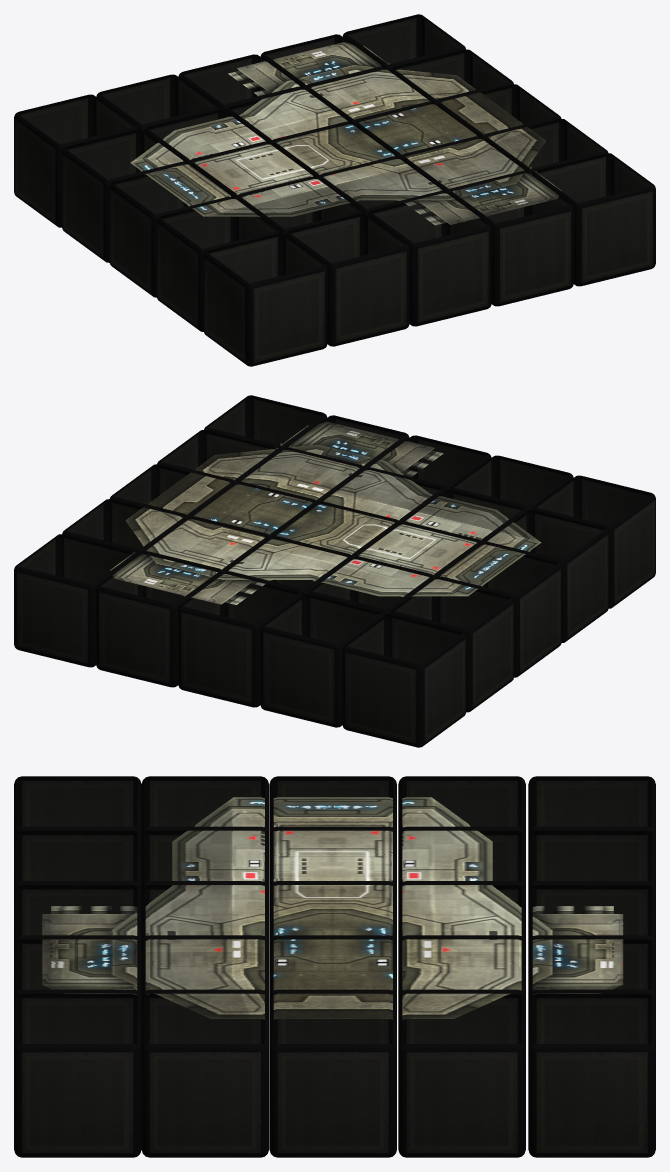
File: space_cruiser_4_ut.FBX
3 renders of one model, top to bottom at view 1: azimuth 30°, elevation 25°; view 2: azimuth 150°, elevation 25°; view 3: azimuth 270°, elevation 25°, orthographic. The views are drawn at different scales.
Visible parts, largest first — view 1: polySurface48, polySurface51, polySurface43, polySurface50, polySurface49, polySurface52, polySurface28, polySurface33, polySurface38, polySurface44, polySurface47, polySurface45 (+13 smaller); view 2: polySurface28, polySurface29, polySurface31, polySurface30, polySurface32, polySurface48, polySurface33, polySurface38, polySurface43, polySurface52, polySurface49, polySurface50 (+13 smaller); view 3: polySurface32, polySurface52, polySurface37, polySurface42, polySurface47, polySurface38, polySurface41, polySurface30, polySurface35, polySurface40, polySurface43, polySurface46 (+13 smaller).
Part boxes in pixels (x1=…): polySurface48: x1=203, y1=233, x2=327, y2=366; polySurface51: x1=450, y1=173, x2=573, y2=306; polySurface43: x1=156, y1=199, x2=279, y2=331; polySurface50: x1=368, y1=193, x2=491, y2=326; polySurface49: x1=286, y1=213, x2=409, y2=346; polySurface52: x1=532, y1=153, x2=655, y2=286; polySurface28: x1=14, y1=94, x2=137, y2=227; polySurface33: x1=62, y1=129, x2=185, y2=262; polySurface38: x1=109, y1=164, x2=232, y2=297; polySurface44: x1=239, y1=179, x2=361, y2=263; polySurface47: x1=485, y1=118, x2=608, y2=203; polySurface45: x1=321, y1=159, x2=444, y2=243; polySurface28: x1=342, y1=614, x2=466, y2=747; polySurface29: x1=260, y1=594, x2=383, y2=727; polySurface31: x1=96, y1=554, x2=219, y2=687; polySurface30: x1=178, y1=574, x2=301, y2=707; polySurface32: x1=14, y1=534, x2=137, y2=667; polySurface48: x1=532, y1=475, x2=655, y2=608; polySurface33: x1=390, y1=579, x2=514, y2=712; polySurface38: x1=438, y1=544, x2=561, y2=677; polySurface43: x1=485, y1=510, x2=608, y2=642; polySurface52: x1=204, y1=395, x2=327, y2=460; polySurface49: x1=450, y1=455, x2=573, y2=519; polySurface50: x1=368, y1=435, x2=491, y2=494; polySurface32: x1=528, y1=993, x2=655, y2=1157; polySurface52: x1=14, y1=993, x2=141, y2=1157; polySurface37: x1=398, y1=993, x2=525, y2=1157; polySurface42: x1=269, y1=993, x2=396, y2=1157; polySurface47: x1=141, y1=993, x2=268, y2=1157; polySurface38: x1=269, y1=776, x2=396, y2=838; polySurface41: x1=269, y1=939, x2=396, y2=1001; polySurface30: x1=528, y1=885, x2=655, y2=946; polySurface35: x1=398, y1=885, x2=525, y2=946; polySurface40: x1=269, y1=885, x2=396, y2=946; polySurface43: x1=141, y1=776, x2=268, y2=837; polySurface46: x1=141, y1=939, x2=268, y2=1000.
Size of the model in its own units: 20.12 by 4 by 20.12.
